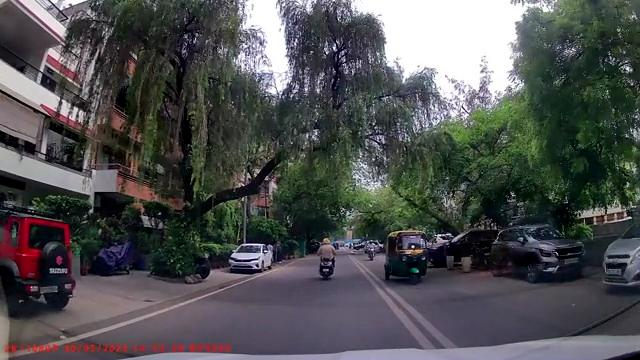motorcycle_with_helmet: (316, 237, 335, 280)
